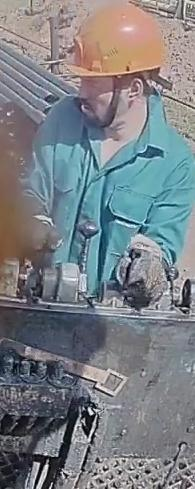gloves: (114, 232, 173, 309)
helmet: (63, 2, 165, 86)
vest: (29, 93, 195, 298)
